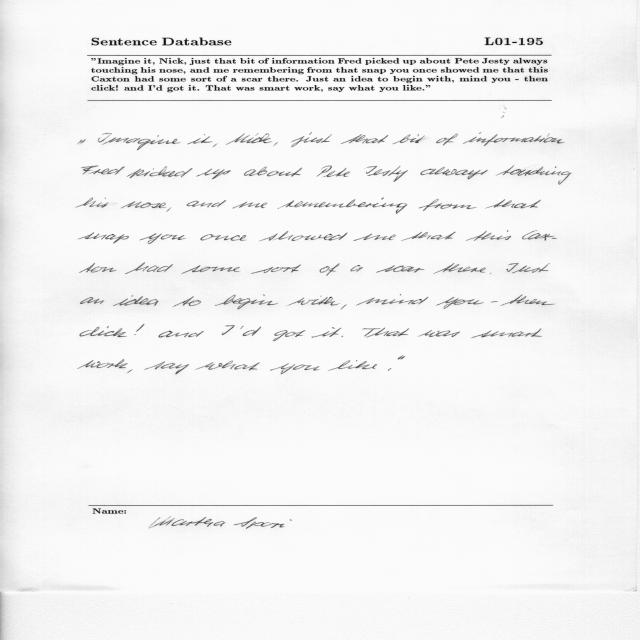word: (278, 198, 408, 214), (496, 166, 572, 185), (463, 132, 564, 146), (98, 133, 181, 150), (215, 295, 279, 310), (260, 231, 348, 241), (80, 324, 144, 337), (420, 167, 488, 179), (127, 167, 193, 179), (356, 295, 428, 306), (419, 199, 477, 211), (366, 166, 408, 182), (196, 361, 260, 371), (471, 329, 542, 338), (291, 133, 332, 148), (501, 295, 555, 306), (144, 362, 189, 375), (433, 263, 486, 274), (244, 167, 302, 177), (436, 297, 484, 309), (78, 233, 129, 244), (226, 133, 272, 145), (270, 363, 320, 374), (329, 360, 378, 371), (181, 265, 240, 274), (125, 263, 173, 274), (288, 296, 340, 306), (140, 233, 186, 244), (113, 295, 159, 306), (485, 200, 541, 209), (78, 359, 128, 369), (401, 232, 456, 241), (466, 230, 511, 241), (341, 134, 388, 144), (363, 328, 409, 338), (251, 265, 301, 274), (506, 263, 550, 273), (376, 265, 425, 273), (82, 166, 125, 175), (80, 263, 117, 273), (317, 166, 350, 177), (273, 330, 305, 341), (196, 169, 231, 179), (522, 231, 557, 241), (392, 134, 425, 144), (312, 327, 342, 338), (201, 234, 247, 241), (158, 331, 204, 338), (121, 201, 166, 208), (187, 200, 226, 208), (78, 198, 109, 208), (173, 296, 201, 307), (353, 234, 396, 241), (419, 330, 460, 337), (436, 134, 458, 146), (187, 134, 213, 144), (320, 263, 340, 276), (233, 202, 268, 209), (241, 326, 262, 336), (81, 297, 105, 304), (222, 325, 235, 335), (350, 265, 363, 272), (79, 139, 86, 144), (341, 304, 347, 309), (398, 356, 405, 360), (166, 207, 171, 212), (213, 143, 218, 147), (273, 142, 278, 146), (127, 370, 132, 374), (491, 301, 498, 303), (388, 368, 391, 371), (490, 273, 492, 274), (134, 334, 136, 335), (341, 336, 343, 337)
